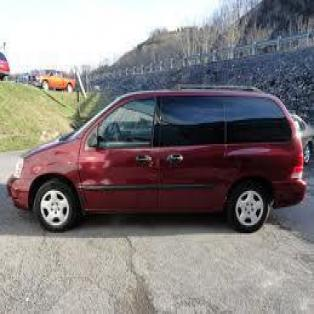Auto: (9, 81, 306, 225)
